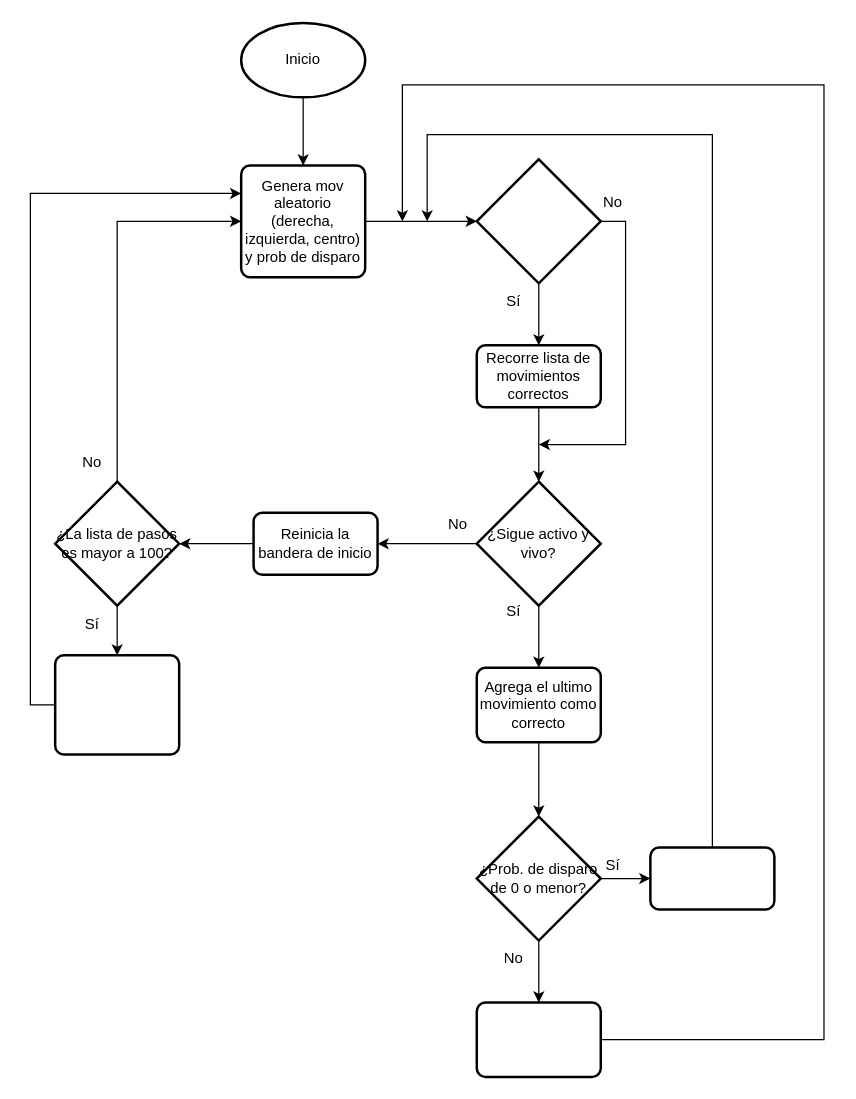
The diagram is 856 pixels wide and 1099 high, and some of its shapes have lost their labels. The centre of each missing label's shape, as x and y in pixels:
"Dispara" belongs at [712,878].
"Elimina los últimos 20 movimientos considerados correctos." belongs at [116,704].
"No dispara" belongs at [538,1039].
"¿Sigue vivo y ya había iniciado?" belongs at [538,220].
